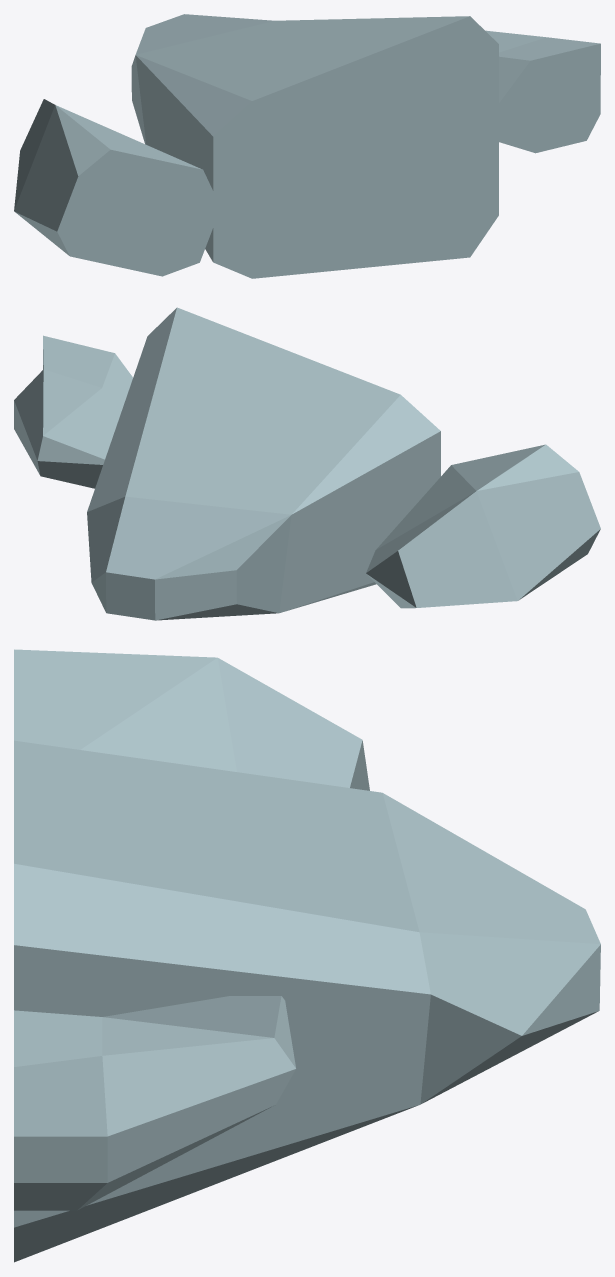
The model's file is ice_share_icerock_2.FBX.
The picture shows the model from 3 angles, top to bottom: view 1: azimuth 30°, elevation 25°; view 2: azimuth 150°, elevation 25°; view 3: azimuth 270°, elevation 25°; orthographic projection. The views are drawn at different scales.
Visible parts, largest first — view 1: winter_cube_2; view 2: winter_cube_2; view 3: winter_cube_2.
Boxes of the visible parts, left/top/right/bottom form: winter_cube_2: left=14, top=14, right=600, bottom=278; winter_cube_2: left=14, top=307, right=600, bottom=620; winter_cube_2: left=14, top=649, right=600, bottom=1262.
Bounding box in the file's own units: 212 × 89.85 × 120.
